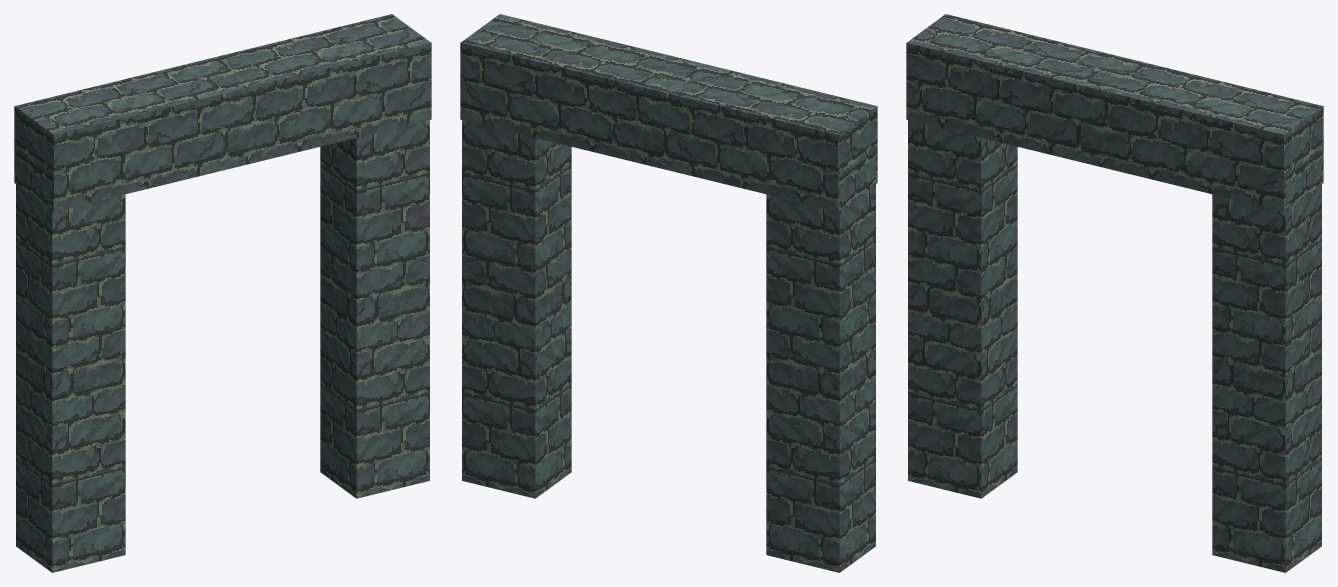
The model's file is archway_stone.glb.
3 renders of one model, left to right at view 1: azimuth 30°, elevation 25°; view 2: azimuth 150°, elevation 25°; view 3: azimuth 330°, elevation 25°, orthographic.
Visible parts, largest first — view 1: LeftPier; view 2: LeftPier; view 3: LeftPier.
Boxes of the visible parts, x1=… form: LeftPier: x1=14, y1=14, x2=431, y2=572; LeftPier: x1=460, y1=14, x2=877, y2=572; LeftPier: x1=906, y1=14, x2=1323, y2=572.
Size of the model in its own units: 3.6 by 4 by 0.65.
1 material, 1 textured.
